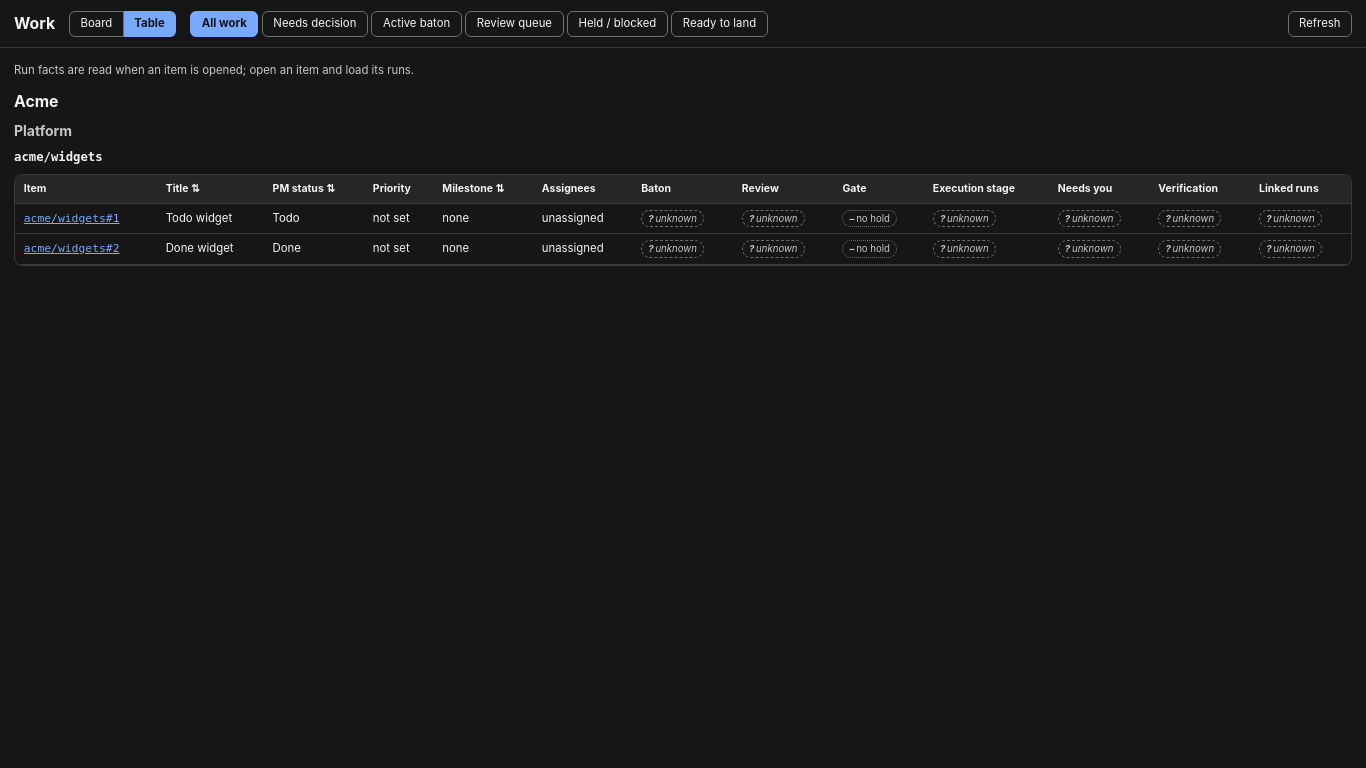
Test: /work page › focus › returns focus to the table row's button on Close
Click the button "acme/widgets#1".
click(72, 218)  # box 24,210 -> 120,227
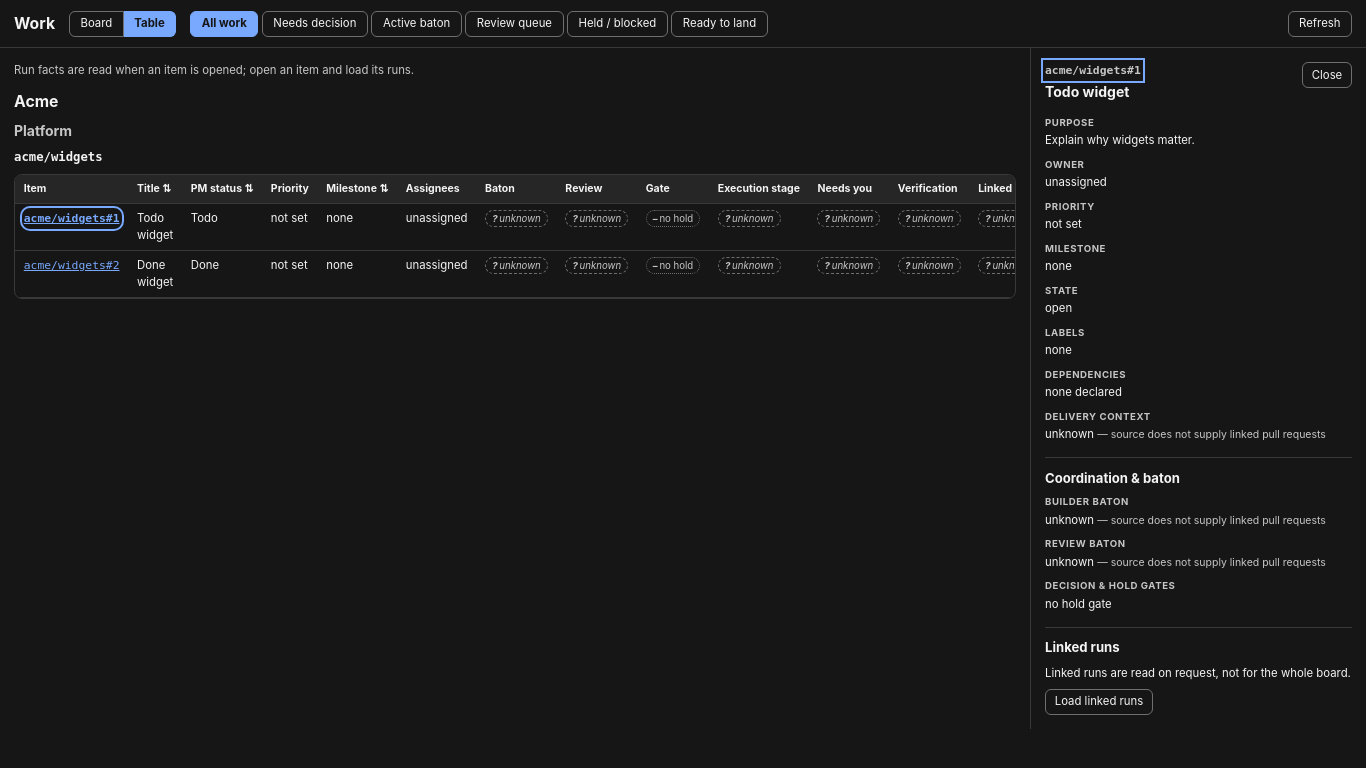
Click the button with test id "work-overview-close".
click(1327, 75)  # box 1302,62 -> 1352,88
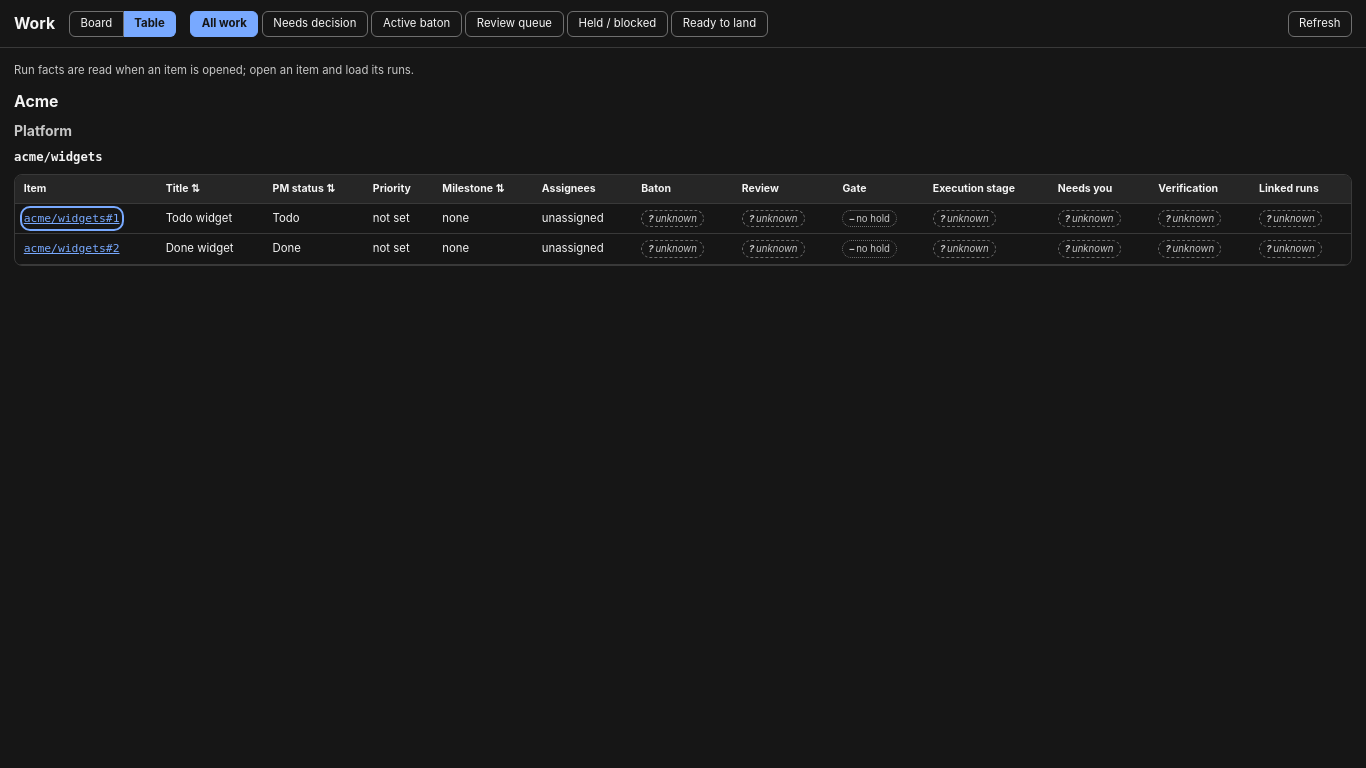
Check: the element with test id "work-item-overview" is gone
